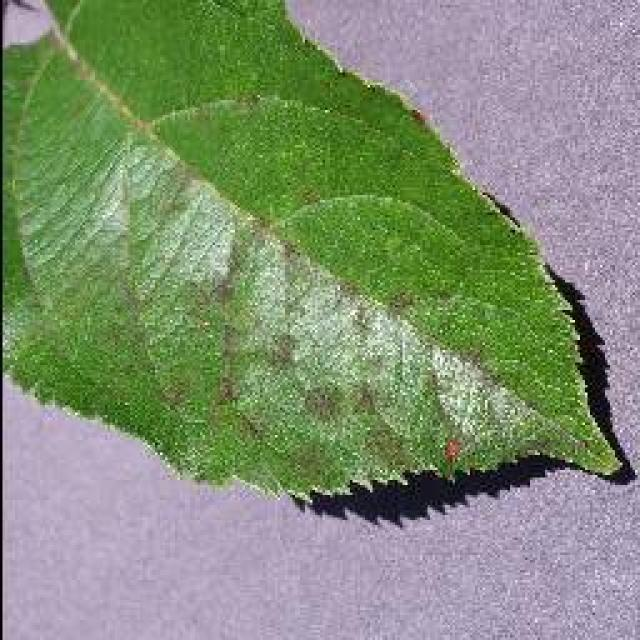apple scab disease: (0, 0, 630, 510)
